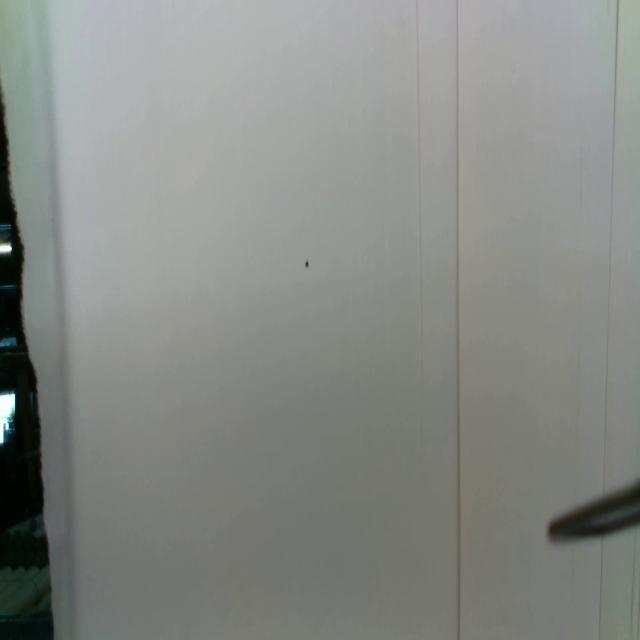crease: (604, 0, 620, 485), (454, 0, 462, 640), (414, 0, 426, 421), (597, 536, 606, 640), (629, 532, 638, 630)
hole: (304, 259, 311, 270)
